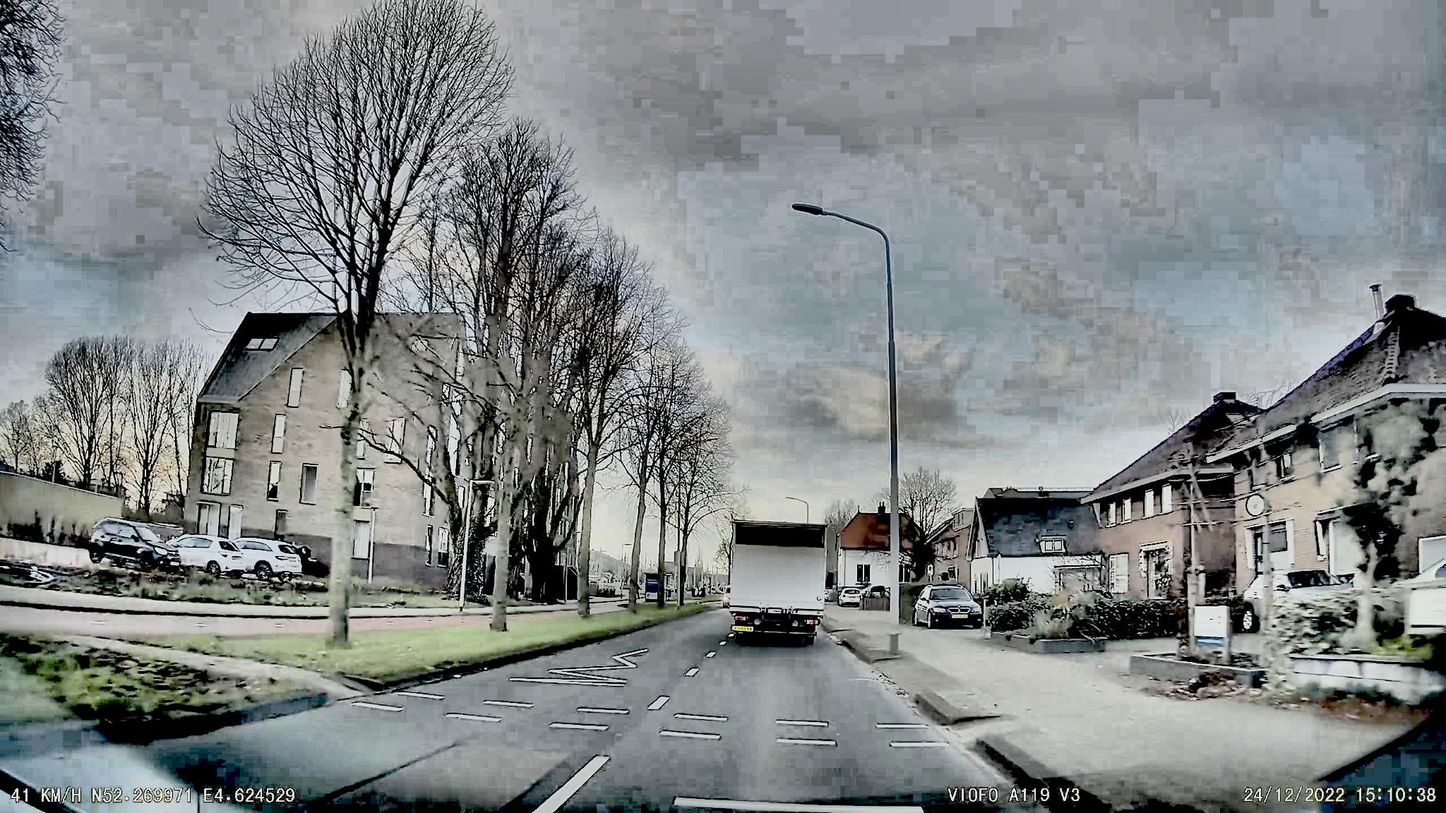Roads: (0, 613, 1074, 813)
